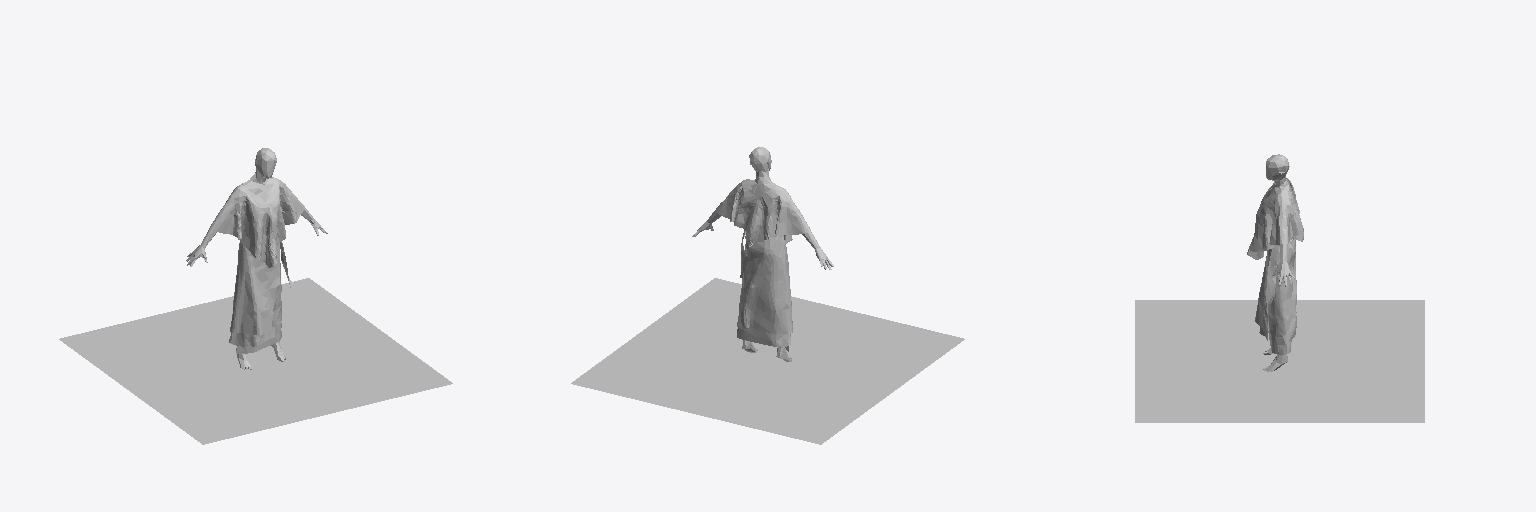
Rendered from wave6.obj.
3 views of the same model, side by side, from view 1: azimuth 30°, elevation 25°; view 2: azimuth 150°, elevation 25°; view 3: azimuth 270°, elevation 25° (orthographic).
Visible parts, largest first — view 1: Plane, TrajeTipico, Maniqui; view 2: Plane, TrajeTipico, Maniqui; view 3: Plane, TrajeTipico, Maniqui.
Part boxes in pixels (x1,y1,x2,y2): Plane: (59, 278, 452, 444); TrajeTipico: (210, 177, 304, 353); Maniqui: (186, 148, 327, 369); Plane: (571, 278, 964, 444); TrajeTipico: (716, 179, 810, 351); Maniqui: (692, 147, 833, 361); Plane: (1135, 300, 1424, 422); TrajeTipico: (1247, 178, 1303, 354); Maniqui: (1263, 154, 1294, 371).
Size of the model in its own units: 235 by 189 by 235.